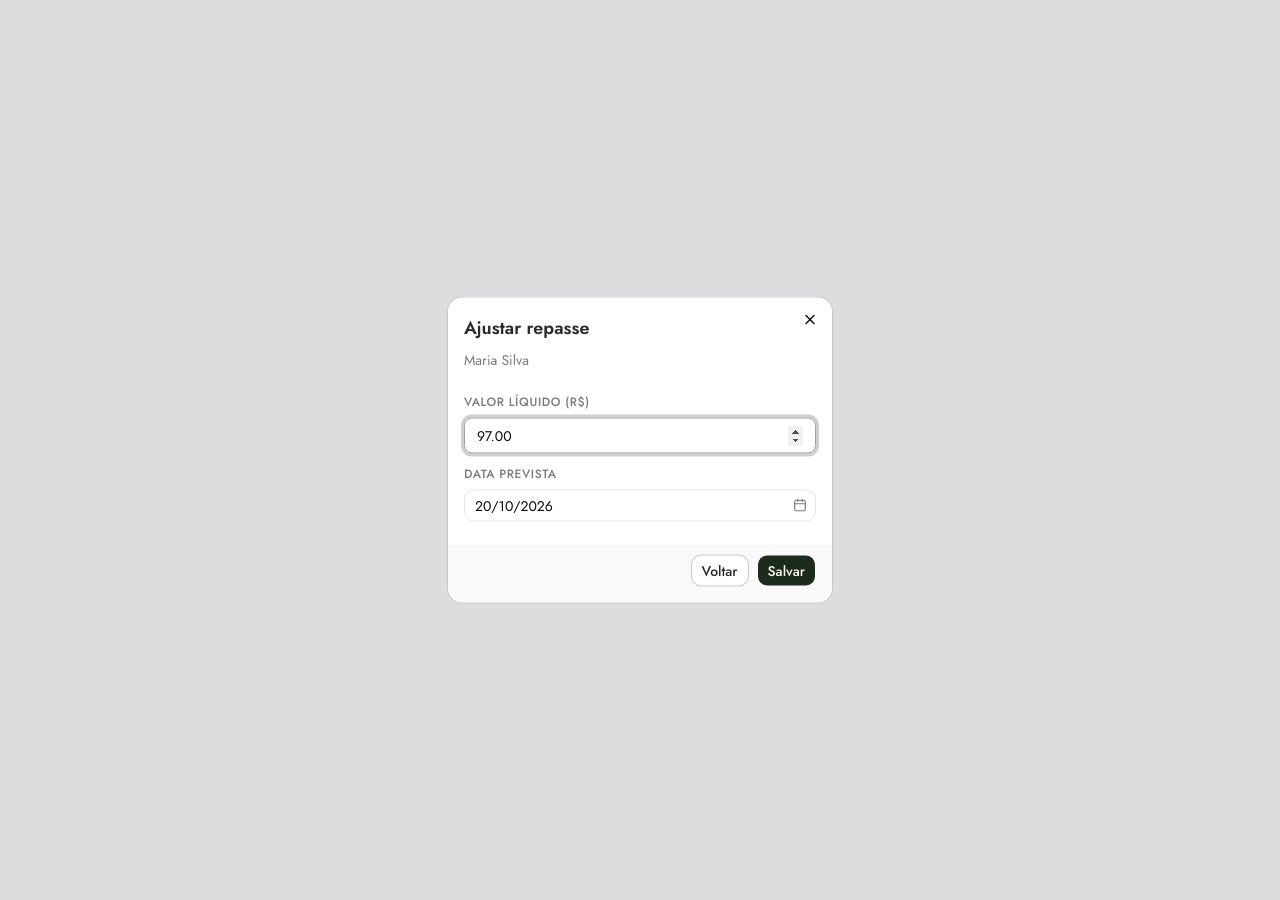
Test: AdjustRepasseDialog › blocks saving when the net amount exceeds the gross amount
The width and height of the screenshot is (1280, 900).
Replace the text in the number field labelled "Valor líquido (R$)" with "100.01". click: (640, 436)
box: top-left (464, 418), bottom-right (816, 454)
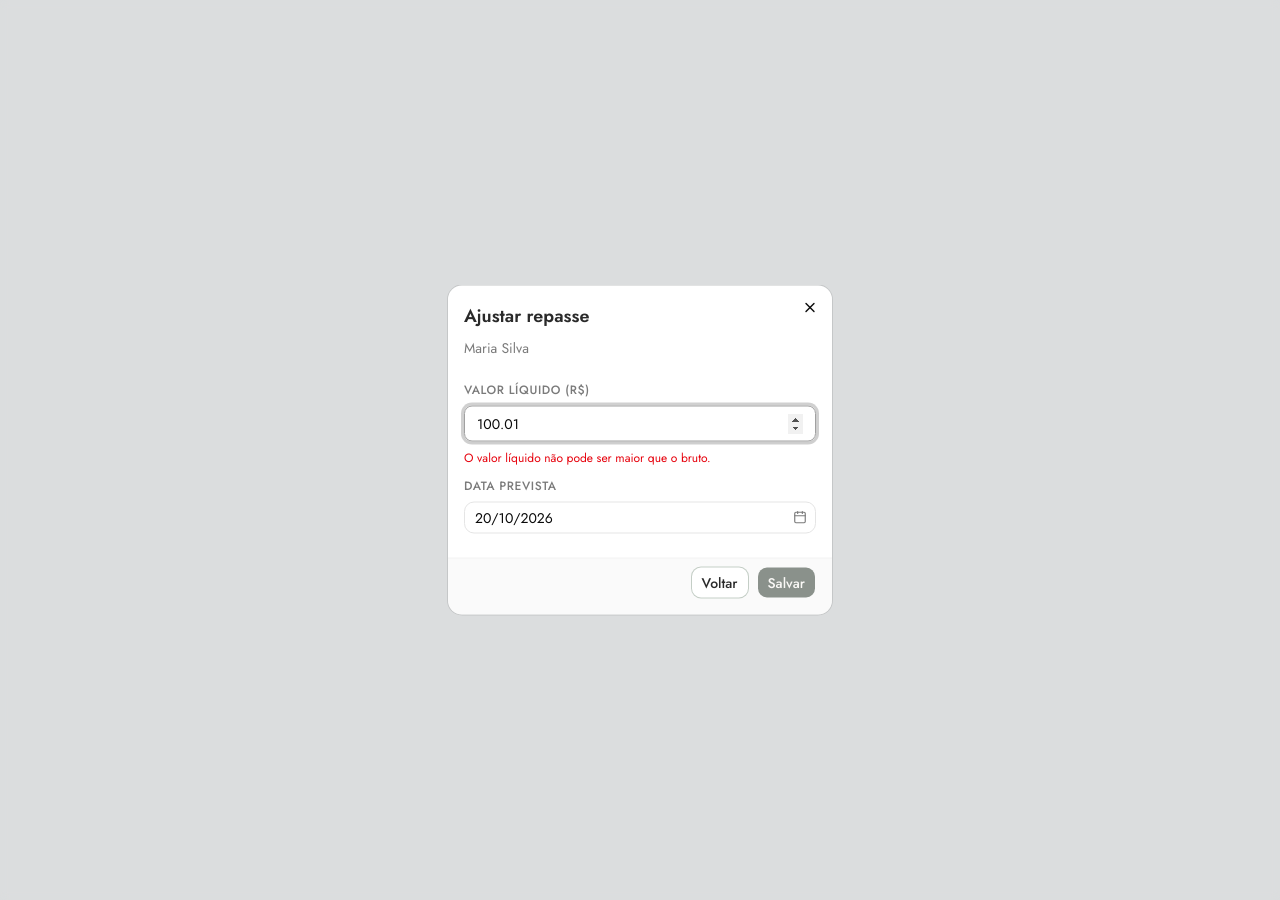
Expected: the button "Salvar" is disabled, top-left (756, 566), bottom-right (816, 598)
Clear the number field labelled "Valor líquido (R$)". click: (640, 424)
box: top-left (464, 406), bottom-right (816, 442)
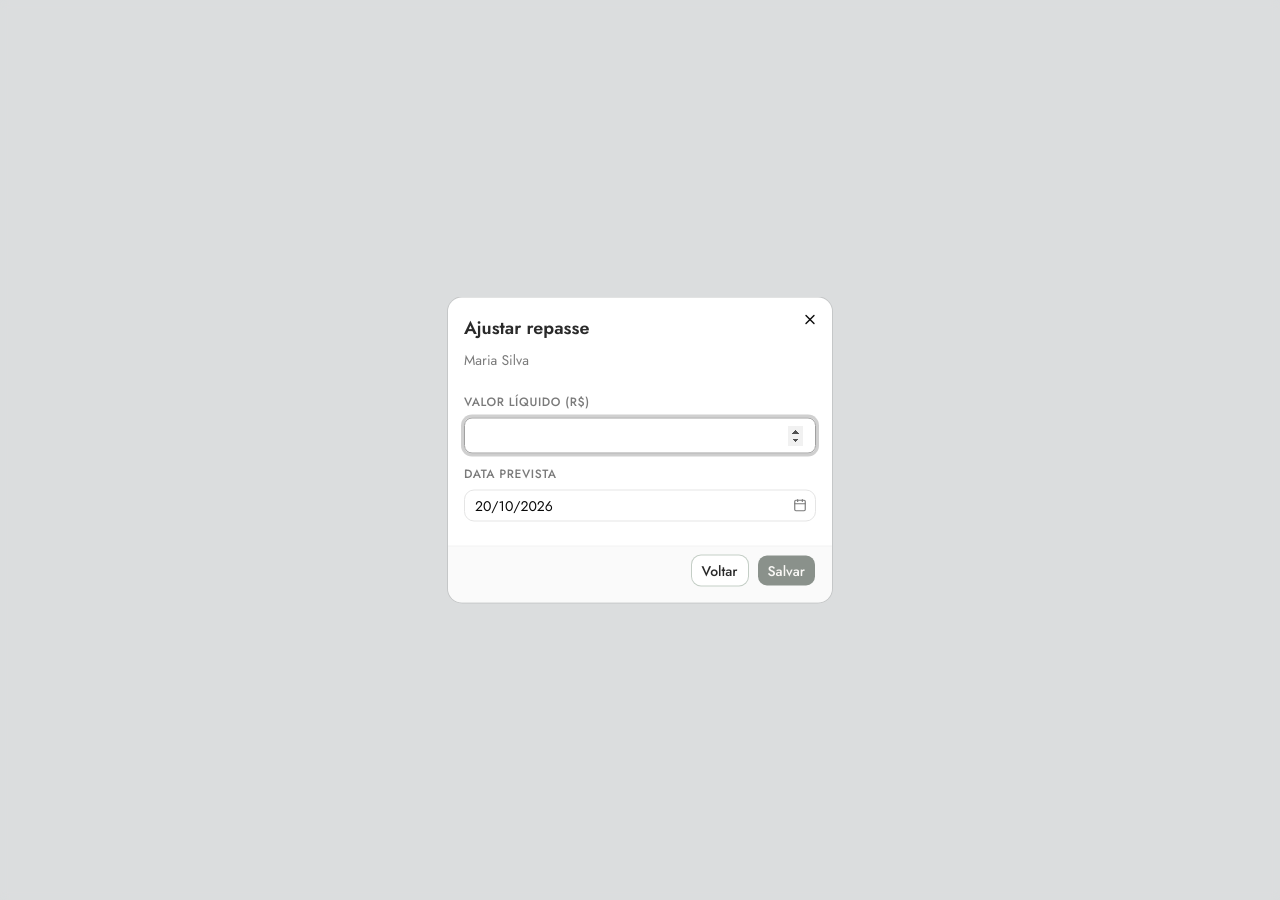
Type "100" into the number field labelled "Valor líquido (R$)". click: (640, 436)
box: top-left (464, 418), bottom-right (816, 454)
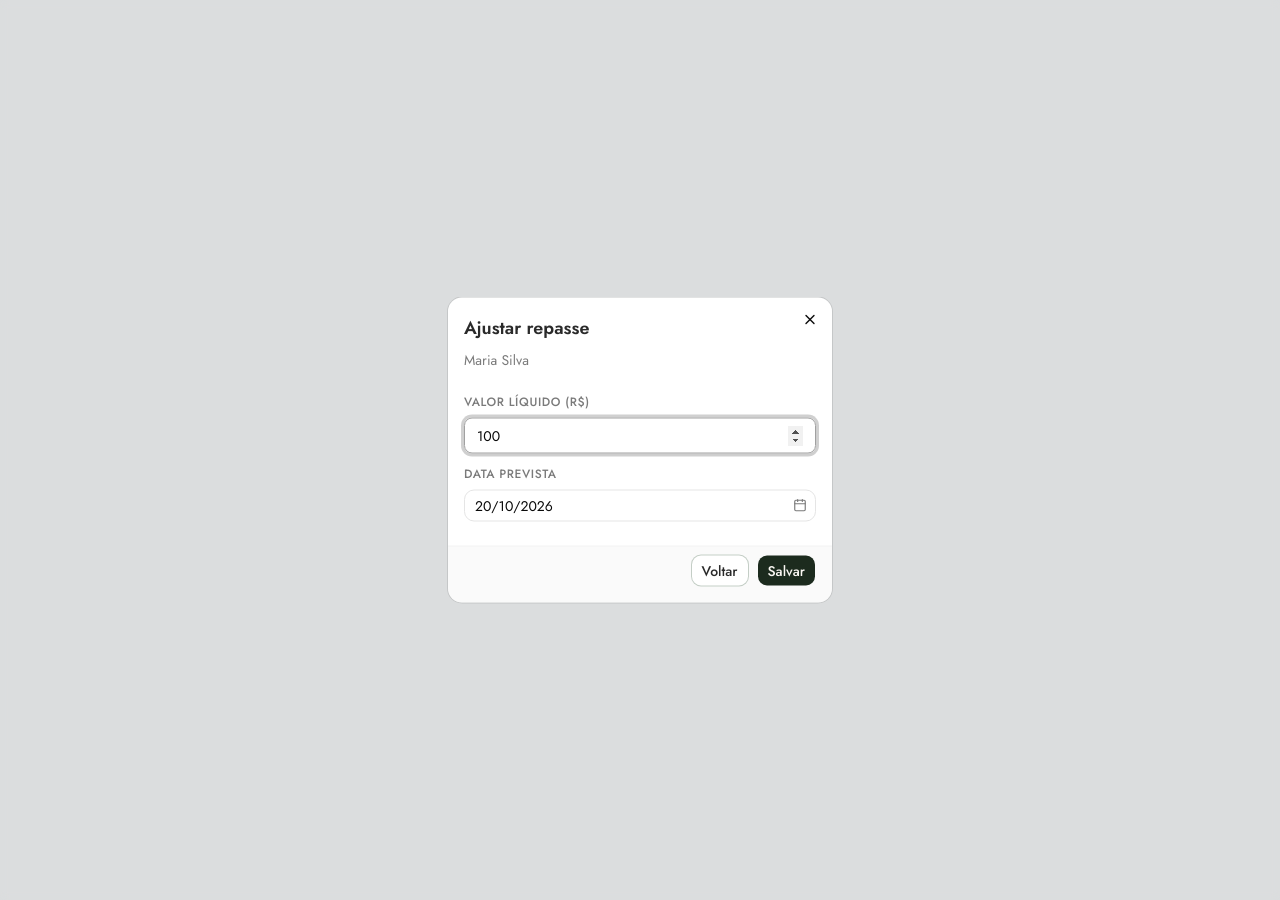
Expected: the button "Salvar" is enabled, top-left (756, 554), bottom-right (816, 586)
